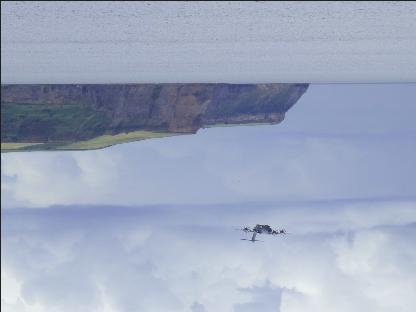A400M: (230, 224, 290, 242)
